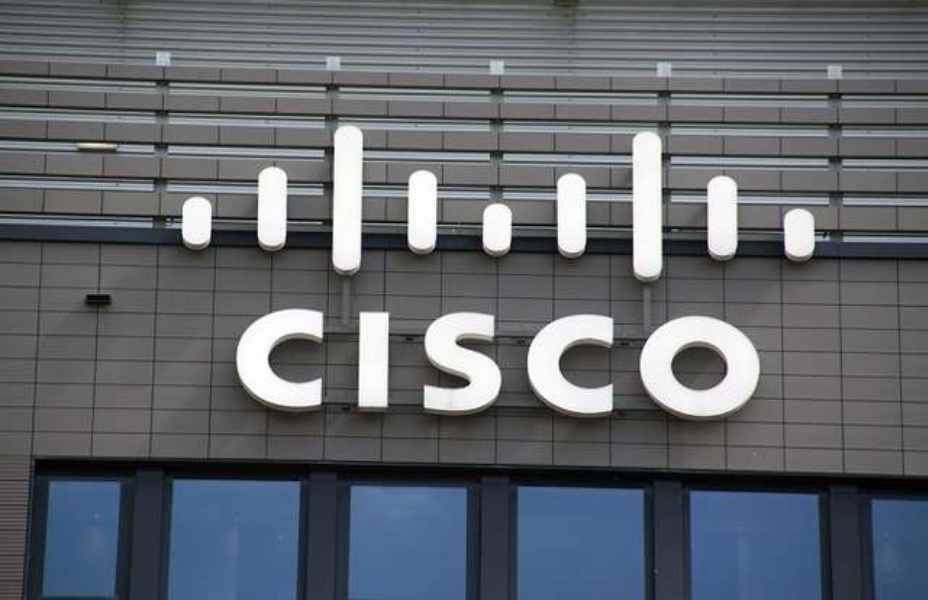text: (241, 308, 256, 424), (257, 308, 272, 424), (273, 308, 288, 424), (289, 308, 304, 424), (305, 308, 320, 424), (321, 308, 336, 424), (337, 308, 352, 424), (353, 308, 368, 424), (369, 308, 384, 424), (385, 308, 400, 424), (401, 308, 416, 424), (417, 308, 432, 424), (433, 308, 448, 424), (449, 308, 464, 424), (465, 308, 480, 424), (481, 308, 496, 424), (497, 308, 512, 424), (513, 308, 528, 424), (529, 308, 544, 424), (545, 308, 560, 424), (561, 308, 576, 424), (577, 308, 592, 424), (593, 308, 608, 424), (609, 308, 624, 424), (625, 308, 640, 424), (641, 308, 656, 424), (657, 308, 672, 424), (673, 308, 688, 424), (689, 308, 704, 424), (705, 308, 720, 424), (721, 308, 736, 424), (737, 308, 752, 424), (753, 308, 768, 424), (235, 308, 240, 424)
